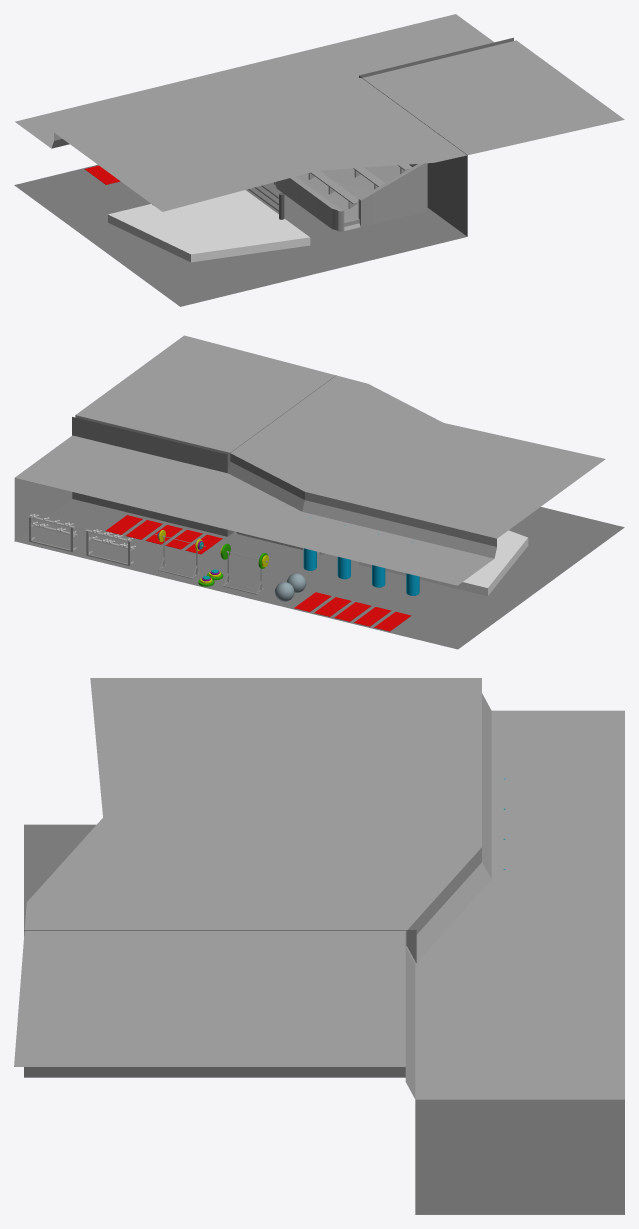
The model's file is Background_Fight_Club_F.fbx.
3 views of the same model, one above another, from view 1: azimuth 30°, elevation 25°; view 2: azimuth 150°, elevation 25°; view 3: azimuth 270°, elevation 25° (orthographic). The views are drawn at different scales.
Parts seen in each view (by area): view 1: Floor1, Floor, RIng, Tribune, Bankjes; view 2: Floor1, Floor, Matjes, RIng, BoksZakken, Stand_Gewichten, Ballen, Gewichten_Stand; view 3: Floor1, Floor.
Boxes of the visible parts, box(x1,y1,x2,y2) form: Floor1: box(15, 14, 624, 211); Floor: box(14, 37, 513, 306); RIng: box(108, 190, 310, 262); Tribune: box(274, 163, 427, 231); Bankjes: box(308, 164, 411, 208); Floor1: box(14, 335, 605, 585); Floor: box(14, 375, 624, 649); Matjes: box(106, 515, 411, 631); RIng: box(359, 530, 528, 596); BoksZakken: box(303, 517, 419, 595); Stand_Gewichten: box(28, 516, 135, 565); Ballen: box(274, 573, 306, 601); Gewichten_Stand: box(155, 534, 270, 594); Floor1: box(14, 678, 624, 1214); Floor: box(24, 824, 624, 1214).
Bounding box in the file's own units: 1036 × 188 × 686.
